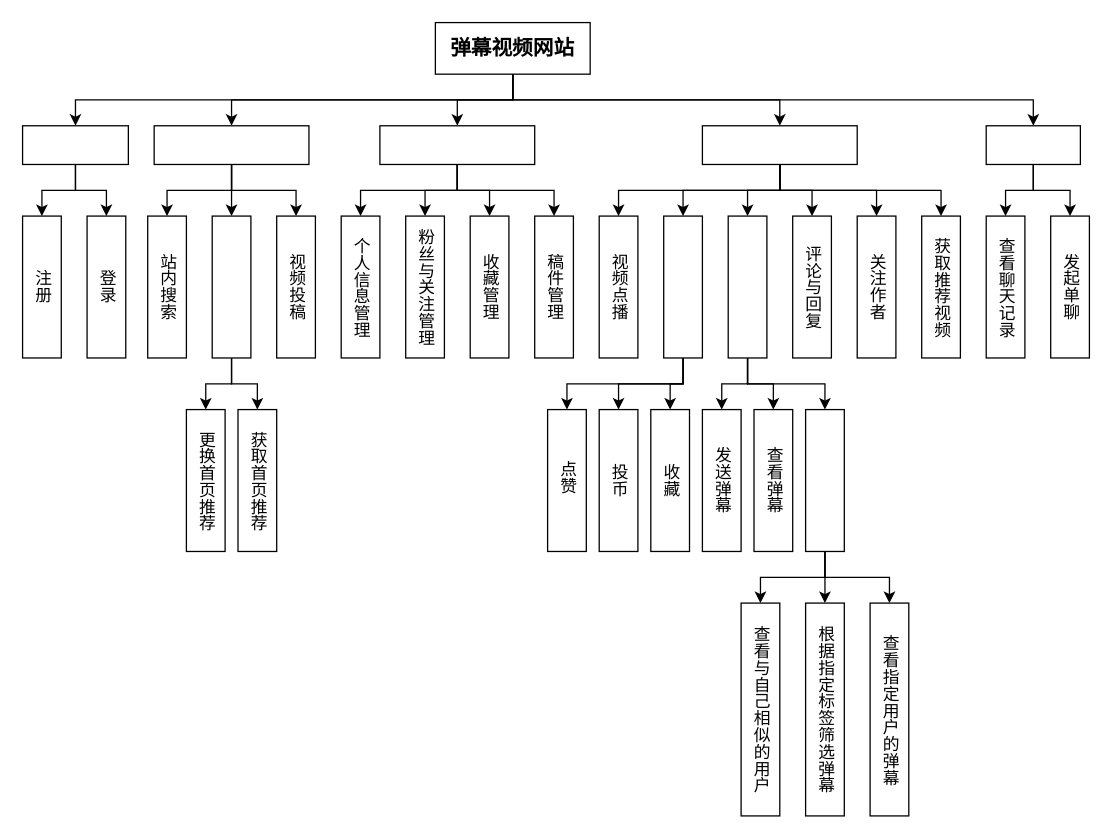
This 1112x839 diagram has some shape labels left out. The centre of each missing label's shape, as x and y in pixels:
"Web站点服务" belongs at point (231, 144).
"个人主页" belongs at point (457, 144).
"信息推流" belongs at point (231, 286).
"弹幕交互" belongs at point (747, 286).
"消息中心" belongs at point (1032, 144).
"登录鉴权" belongs at point (74, 144).
"筛选弹幕" belongs at point (824, 479).
"视频交互" belongs at point (682, 286).
"视频播放页" belongs at point (779, 144).
